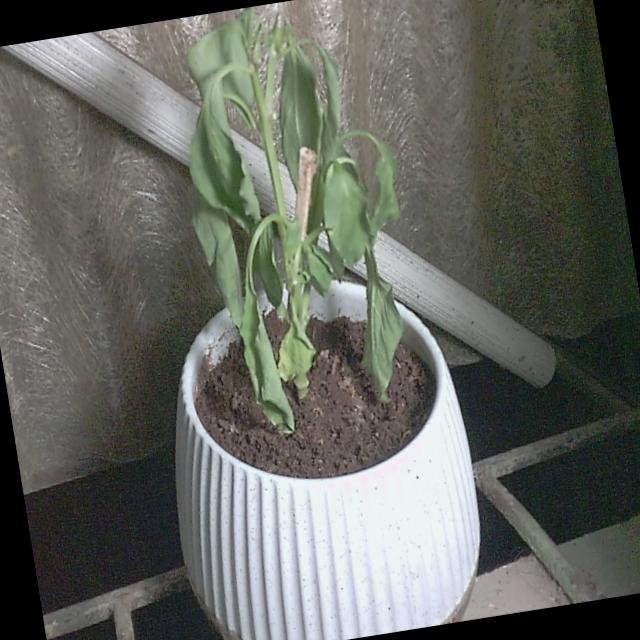Leaf: (175, 81, 264, 246), (233, 285, 296, 441), (269, 55, 334, 204), (188, 180, 248, 335), (350, 272, 415, 403), (318, 168, 376, 266)
